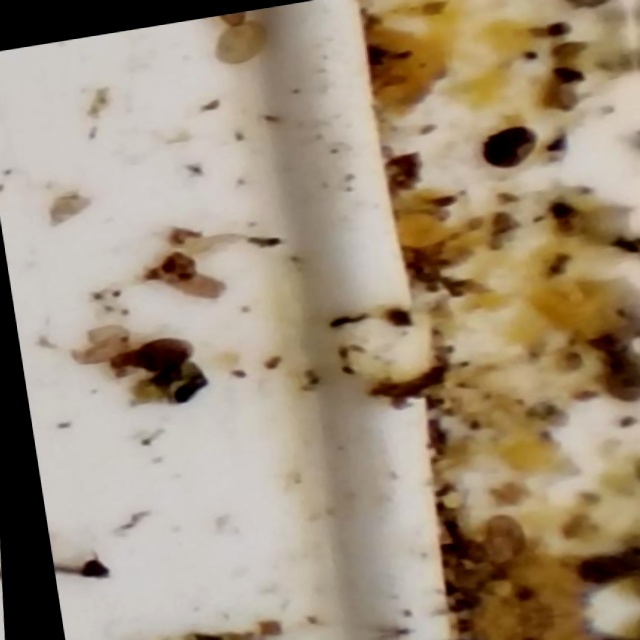varroa: (121, 324, 205, 371), (469, 122, 541, 174)
